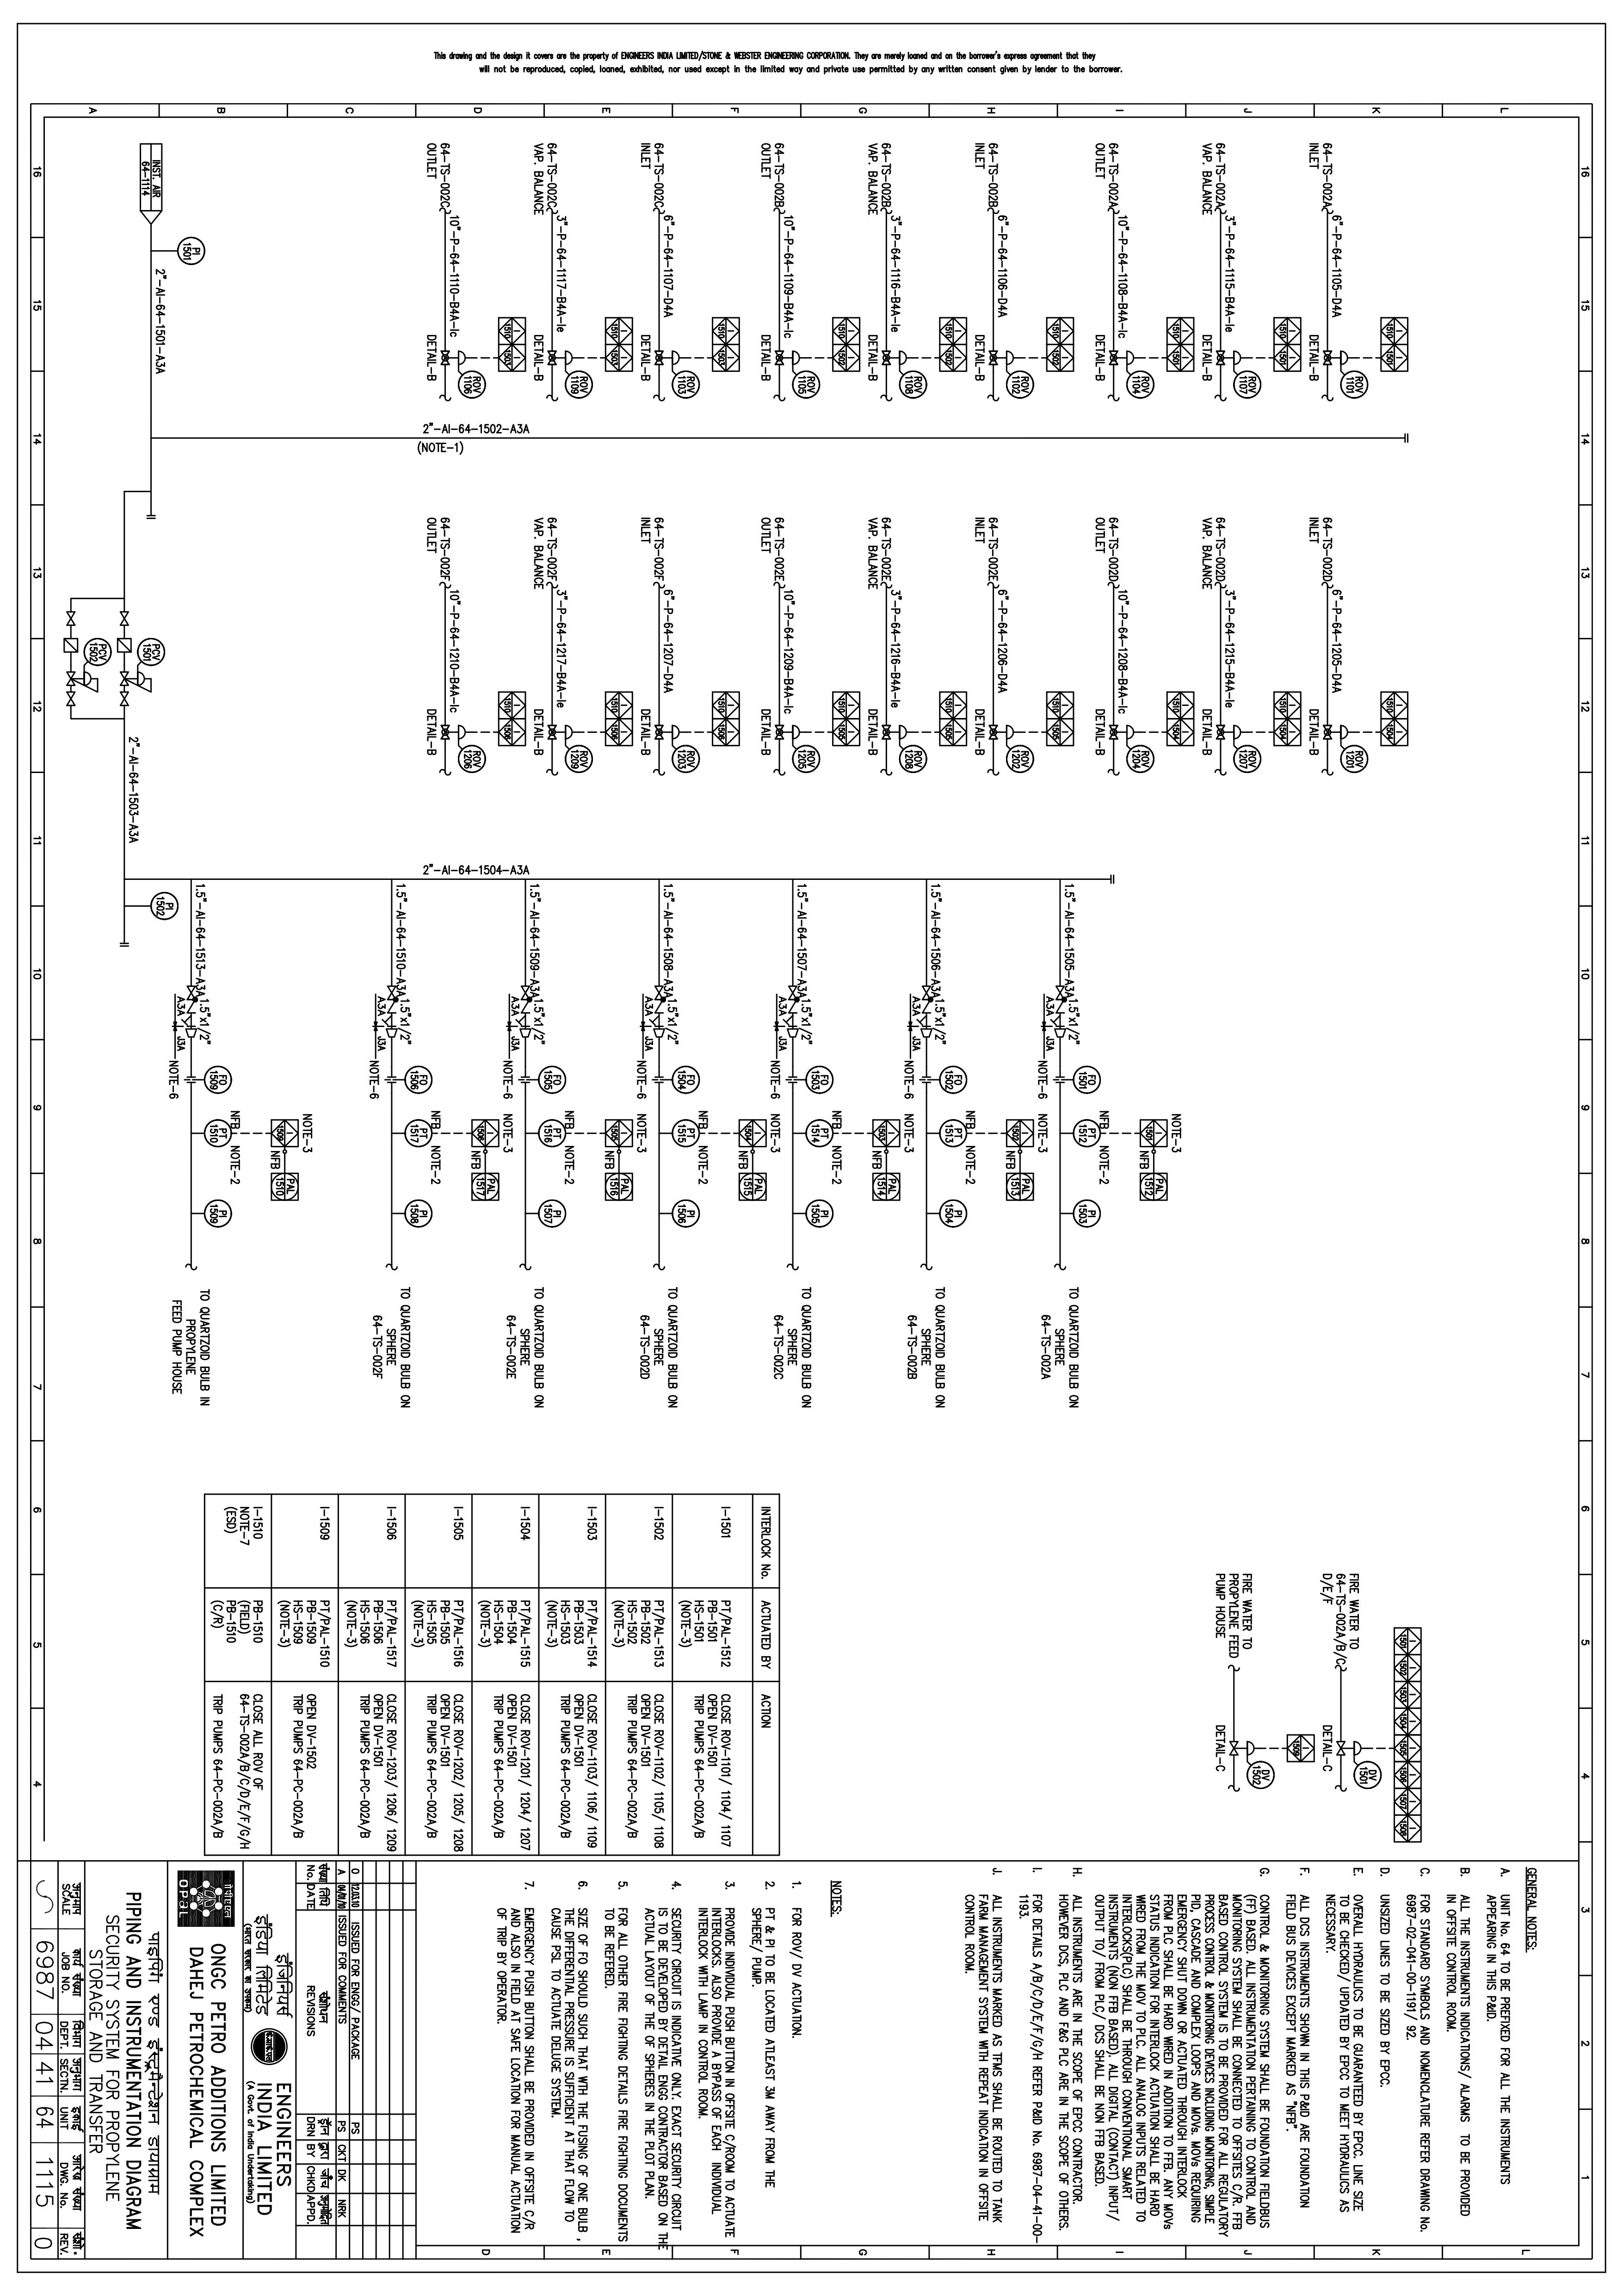ball valve: (437, 344, 457, 371), (1335, 346, 1352, 372), (669, 722, 685, 750), (894, 720, 912, 745), (785, 1021, 803, 1045), (1003, 343, 1017, 372), (1122, 344, 1138, 371), (1001, 720, 1017, 747), (1052, 980, 1068, 1007), (453, 348, 472, 369), (1228, 726, 1249, 745), (650, 982, 669, 1003), (894, 348, 912, 371), (1108, 720, 1122, 748), (1319, 346, 1335, 371), (1335, 722, 1351, 747), (785, 982, 801, 1007), (1121, 724, 1140, 743), (516, 1022, 536, 1042), (453, 722, 471, 743), (63, 610, 81, 631), (116, 610, 133, 631), (1054, 1021, 1068, 1047), (1214, 346, 1230, 369), (1230, 348, 1245, 371), (1214, 720, 1230, 743), (1319, 720, 1335, 743), (183, 1021, 198, 1043), (653, 343, 666, 371), (787, 350, 801, 374), (989, 722, 1003, 747), (386, 982, 400, 1007), (560, 350, 578, 369), (560, 722, 576, 743), (917, 1022, 933, 1043), (1242, 1737, 1254, 1764), (667, 346, 682, 369), (439, 722, 453, 745), (516, 982, 530, 1005), (919, 984, 934, 1003), (548, 346, 560, 371), (880, 350, 894, 371), (987, 348, 1001, 369), (653, 722, 667, 743), (771, 722, 785, 743), (789, 724, 803, 745), (880, 722, 894, 743), (65, 689, 79, 710), (184, 980, 197, 1003), (1335, 1737, 1345, 1764), (1107, 350, 1121, 369), (545, 722, 559, 741), (773, 348, 785, 369), (1228, 1737, 1238, 1762), (81, 669, 95, 687), (118, 669, 130, 689), (135, 668, 148, 687), (653, 1021, 666, 1040), (1351, 1739, 1363, 1757), (67, 669, 77, 689), (119, 692, 130, 711), (636, 1021, 650, 1035), (169, 1021, 181, 1036), (385, 1026, 397, 1042), (1038, 1017, 1049, 1035), (903, 1021, 915, 1035), (504, 1019, 513, 1035), (371, 1021, 379, 1035), (773, 1021, 782, 1035)
